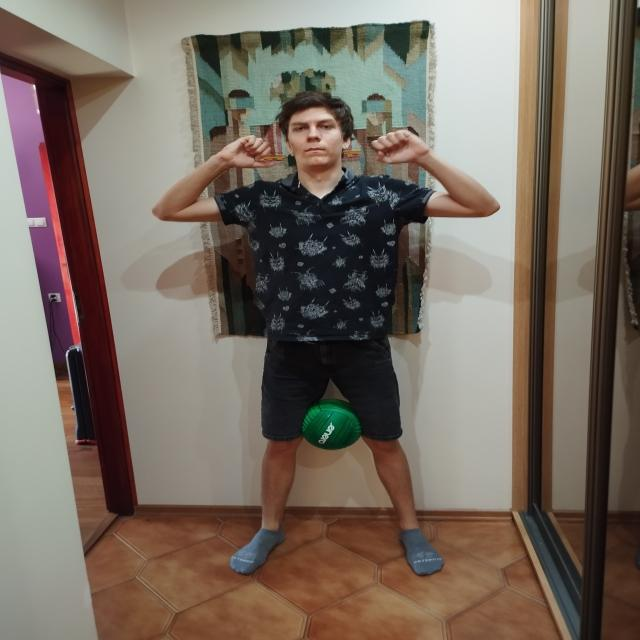zielona: (303, 398, 363, 448)
